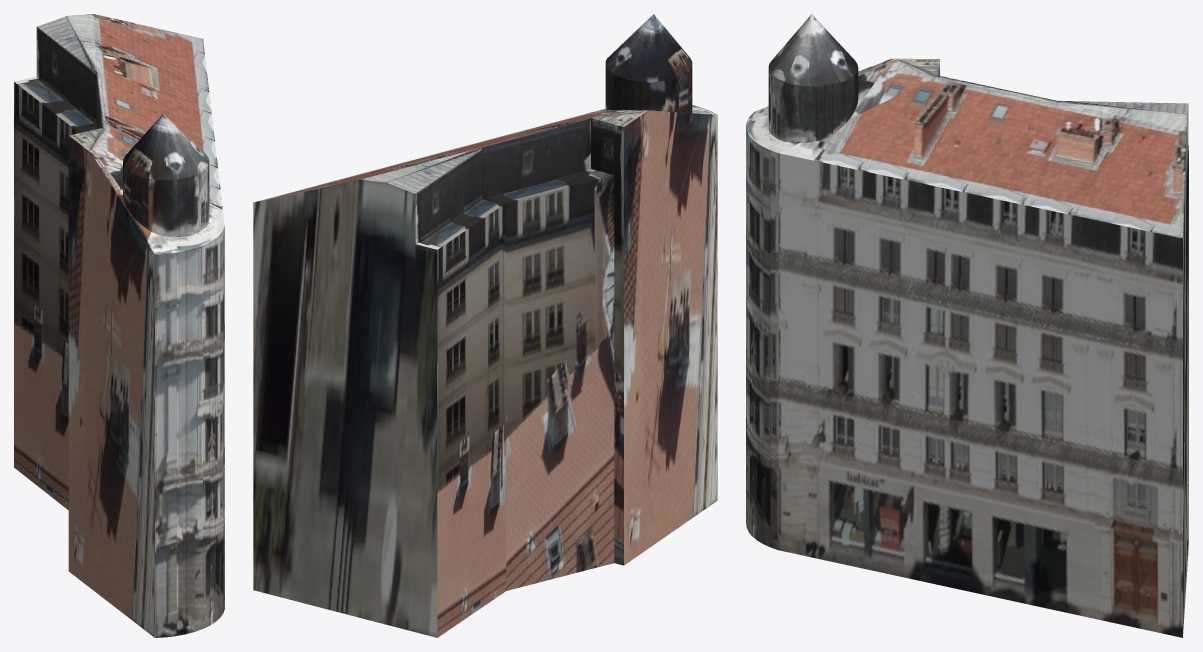
The picture shows the model from 3 angles, left to right: view 1: azimuth 30°, elevation 25°; view 2: azimuth 150°, elevation 25°; view 3: azimuth 270°, elevation 25°; orthographic projection. The views are drawn at different scales.
Visible parts, largest first — view 1: Z_UP; view 2: Z_UP; view 3: Z_UP.
Part boxes in pixels (<box>): Z_UP: <box>14,14,224,637</box>; Z_UP: <box>253,14,717,637</box>; Z_UP: <box>746,14,1188,637</box>.
Size of the model in its own units: 16.01 by 29.69 by 23.22.
Materials: 2 (1 with a texture image).
